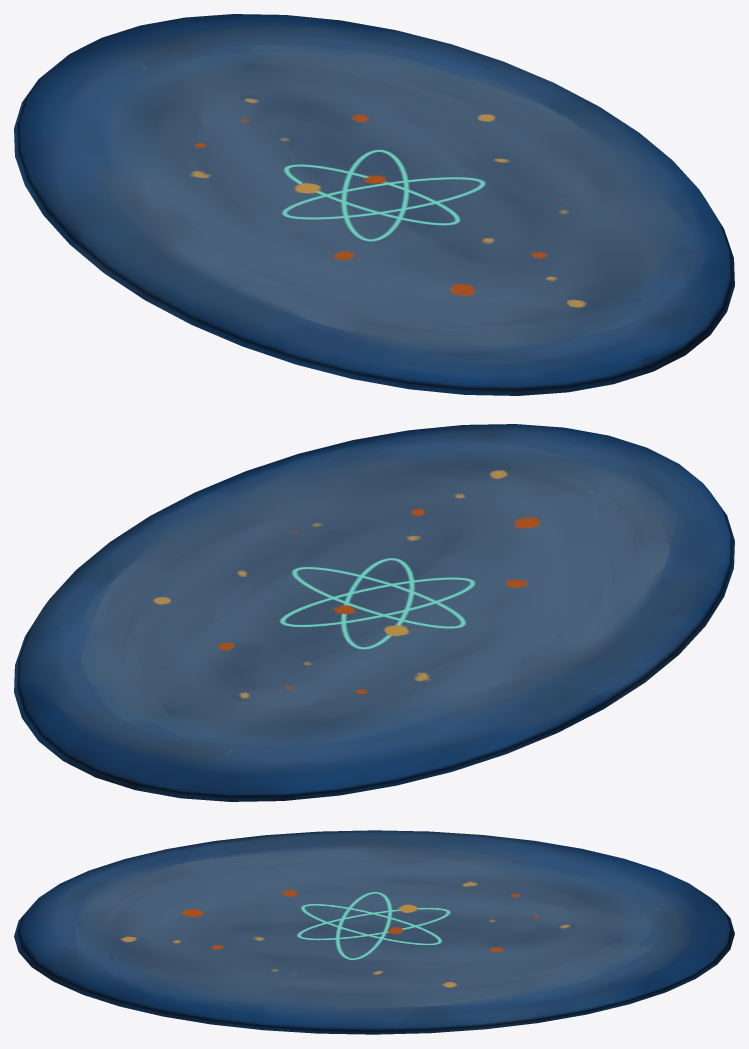
Rendered from carpet_Model.fbx.
The picture shows the model from 3 angles, top to bottom: view 1: azimuth 30°, elevation 25°; view 2: azimuth 150°, elevation 25°; view 3: azimuth 270°, elevation 25°; orthographic projection. The views are drawn at different scales.
Parts seen in each view (by area): view 1: pCylinder2; view 2: pCylinder2; view 3: pCylinder2.
Part boxes in pixels (<box>): pCylinder2: <box>14,14,734,395</box>; pCylinder2: <box>14,424,734,801</box>; pCylinder2: <box>14,830,734,1034</box>.
Size of the model in its own units: 5.55 by 0.3102 by 8.51.
Materials: 1 (1 with a texture image).
